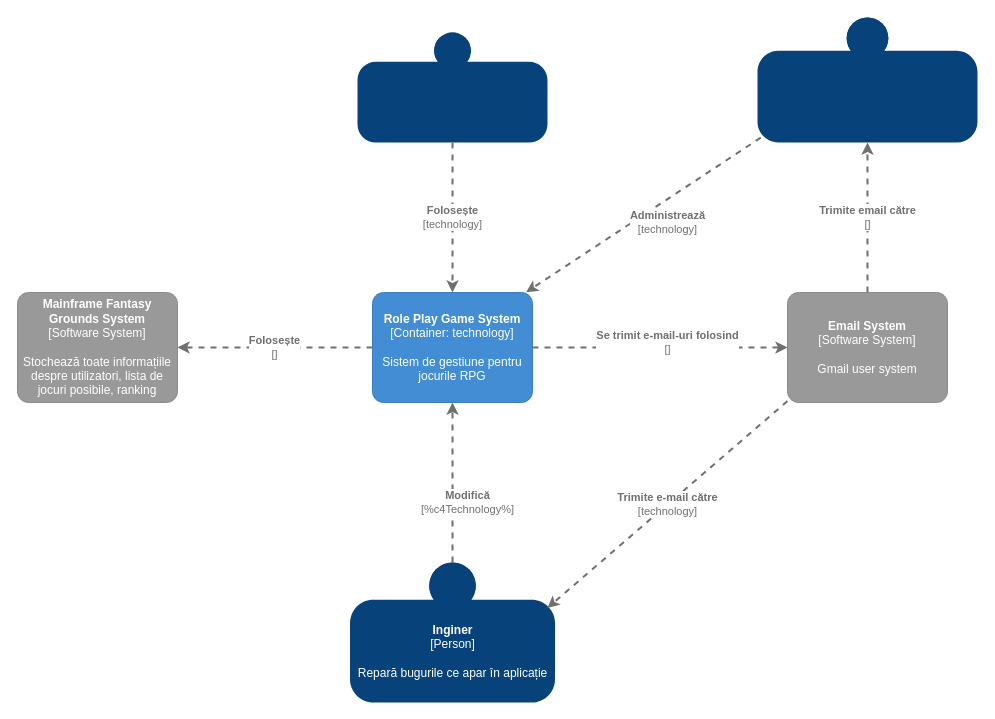
Some shapes in this 995 by 719 pixel diagram are drawn without their labels. Each missing label, with the box of its shape:
Administrator [Person] Un administrator pentru fantasy grounds: (757, 17, 977, 142)
jucător [Person] Un utilizator al fantasy grounds: (357, 32, 547, 142)
